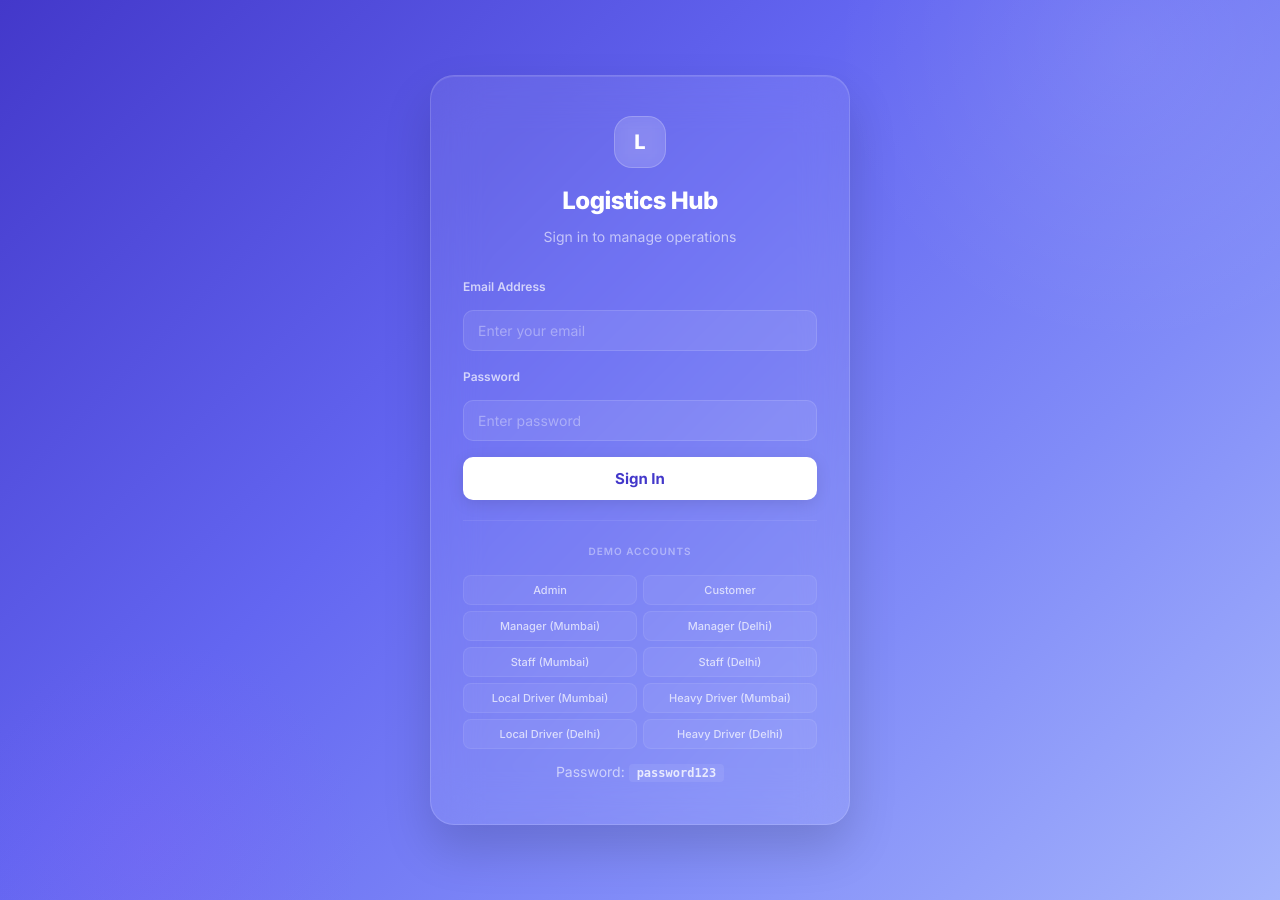
LoginPage › shows error on failed login
This screenshot has width=1280, height=900.
In the field with placeholder "Enter your email": (640,330) [463,310,817,351], type "test@test.com"
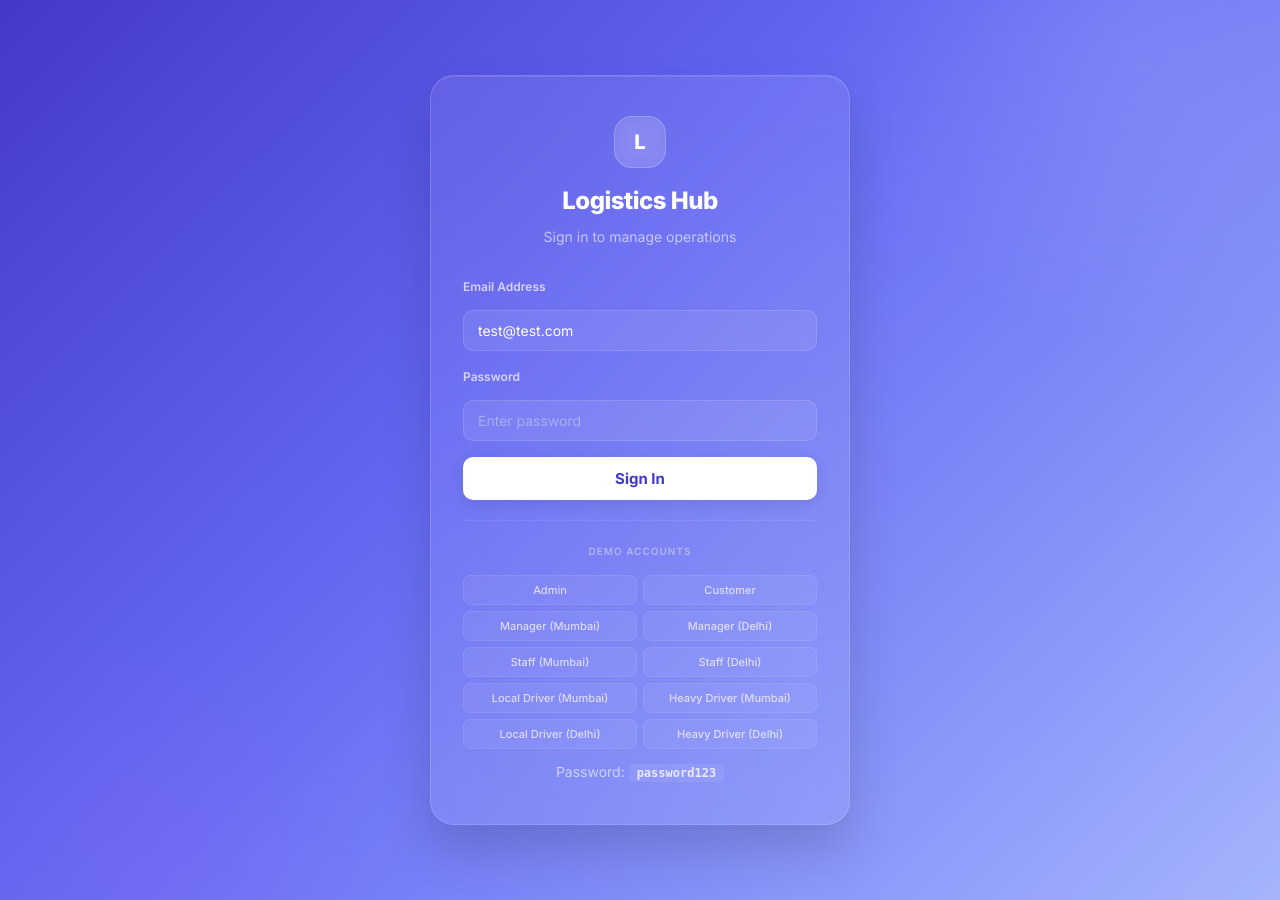
In the password field with placeholder "Enter password": (640,420) [463,400,817,441], type "wrongpass"
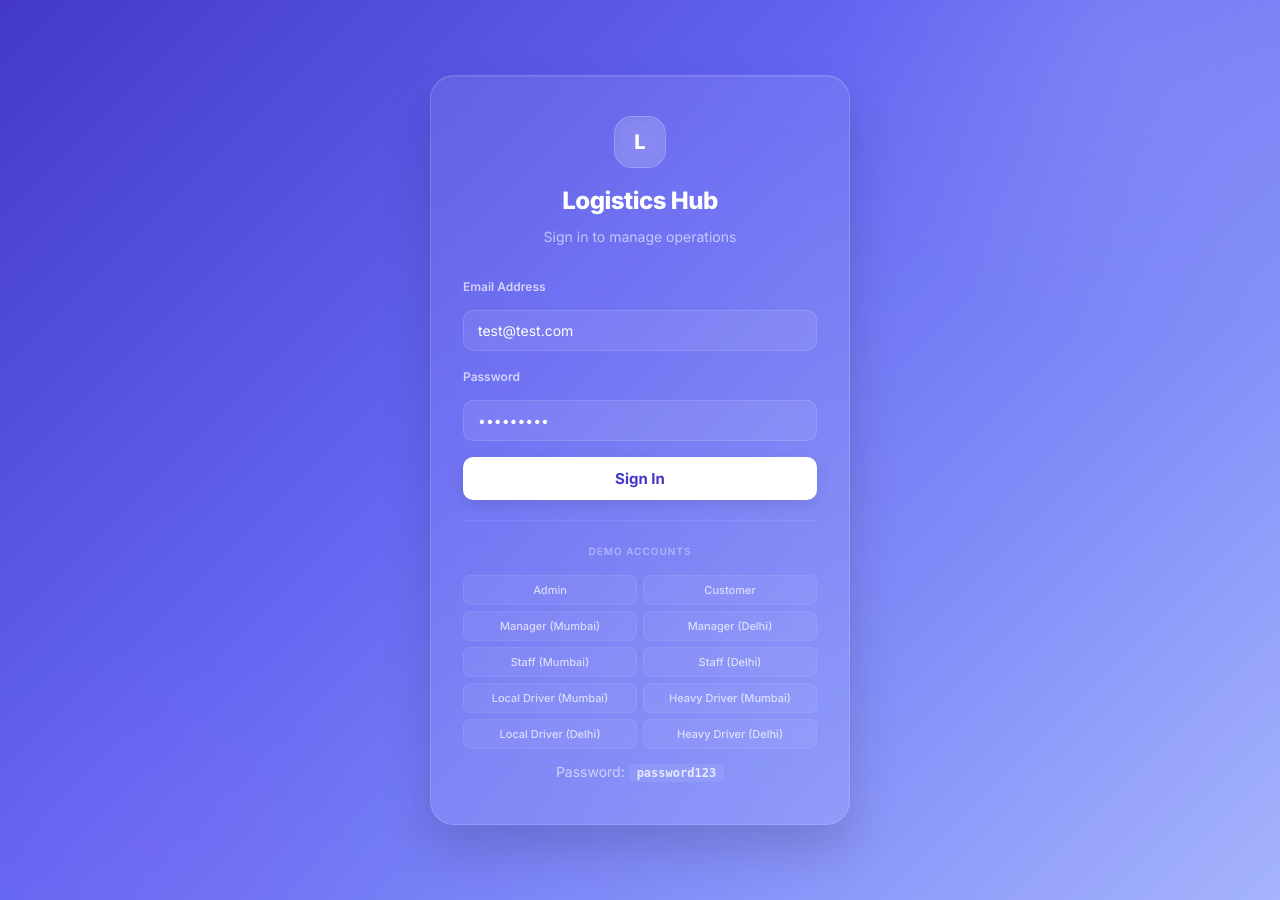
Click the button "Sign In": (640,478) [463,457,817,500]
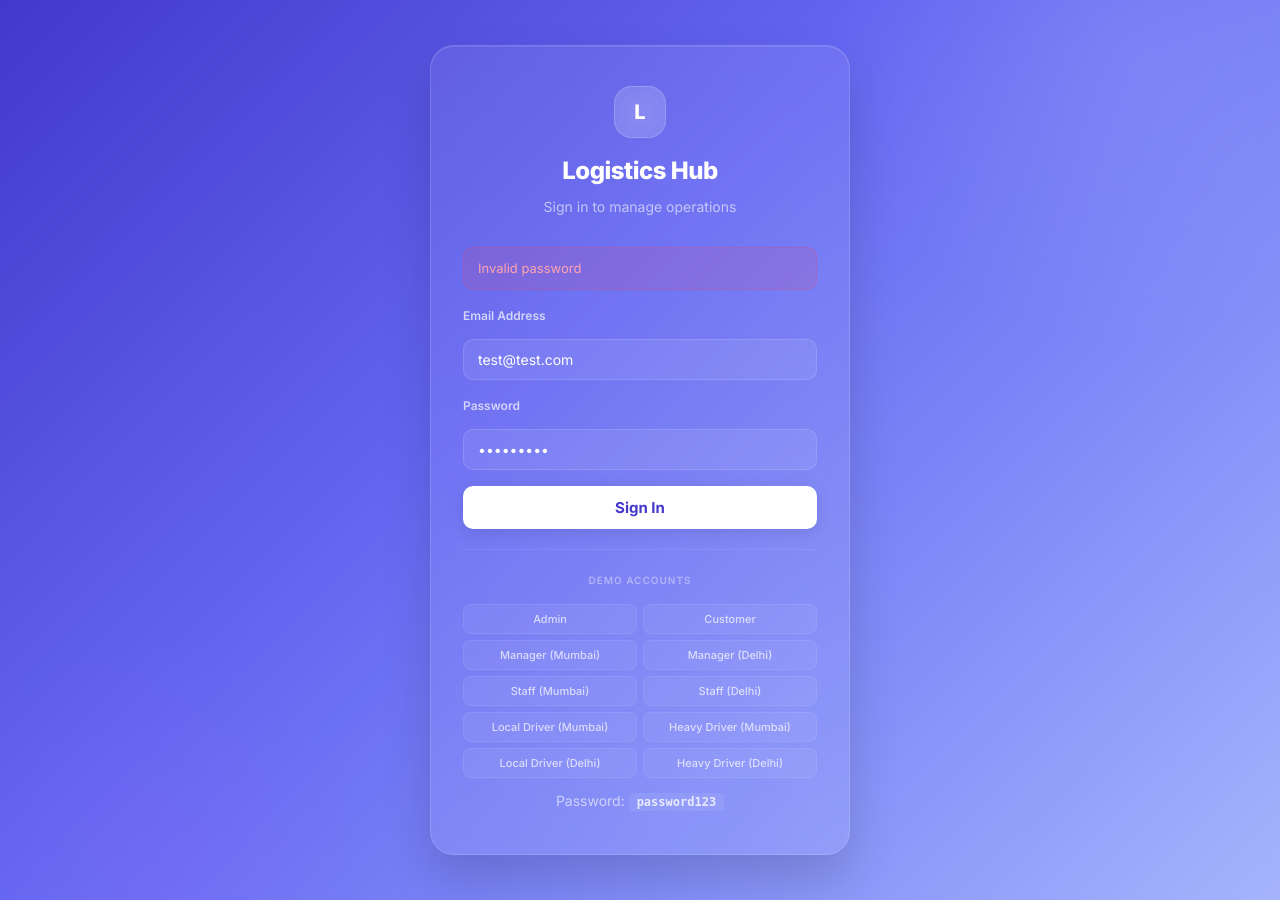
Now the text "Invalid password" is shown, box [463,247,817,290]
